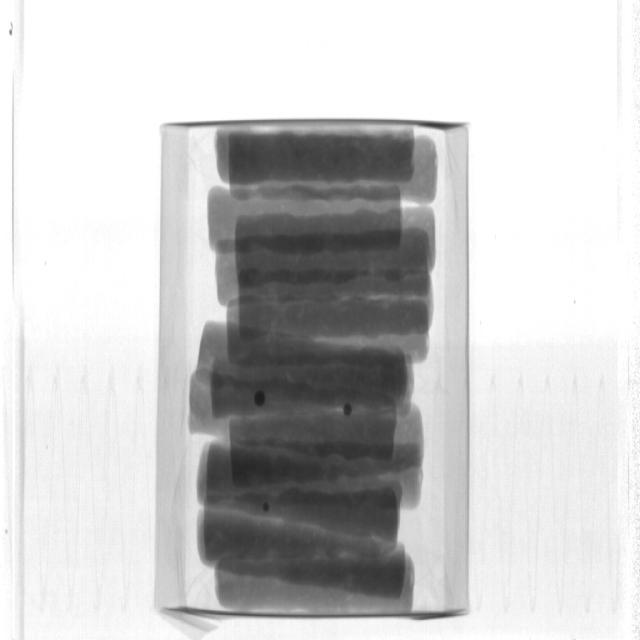ym: (254, 391, 266, 406), (344, 404, 354, 417), (265, 503, 272, 512)
